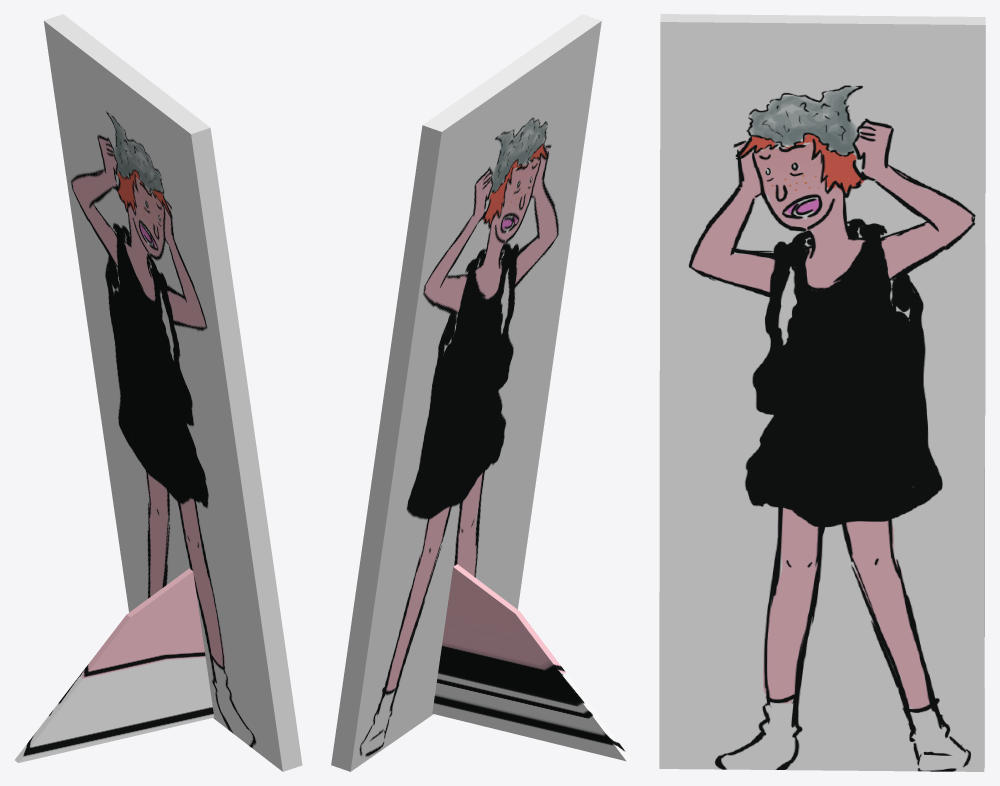
File: light priest.fbx
The picture shows the model from 3 angles, left to right: view 1: azimuth 30°, elevation 25°; view 2: azimuth 150°, elevation 25°; view 3: azimuth 270°, elevation 25°; orthographic projection. The views are drawn at different scales.
Visible parts, largest first — view 1: Cube; view 2: Cube; view 3: Cube.
Boxes of the visible parts, left/top/right/bottom form: Cube: left=15, top=14, right=302, bottom=771; Cube: left=331, top=14, right=630, bottom=771; Cube: left=659, top=14, right=985, bottom=771.
Bounding box in the file's own units: 1.16 × 3.37 × 1.42.
